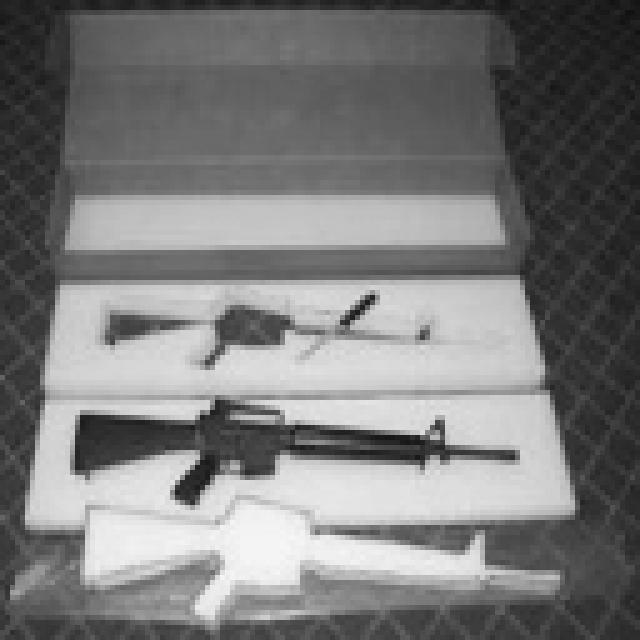Rifle: (44, 501, 574, 640), (68, 391, 530, 523), (112, 280, 479, 388)
